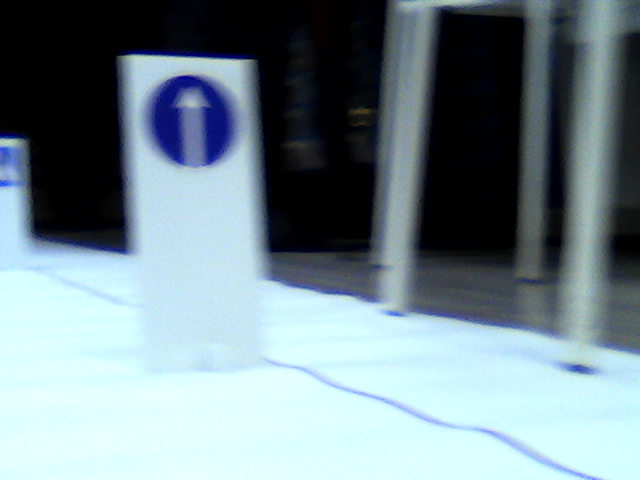forw: (148, 71, 236, 174)
